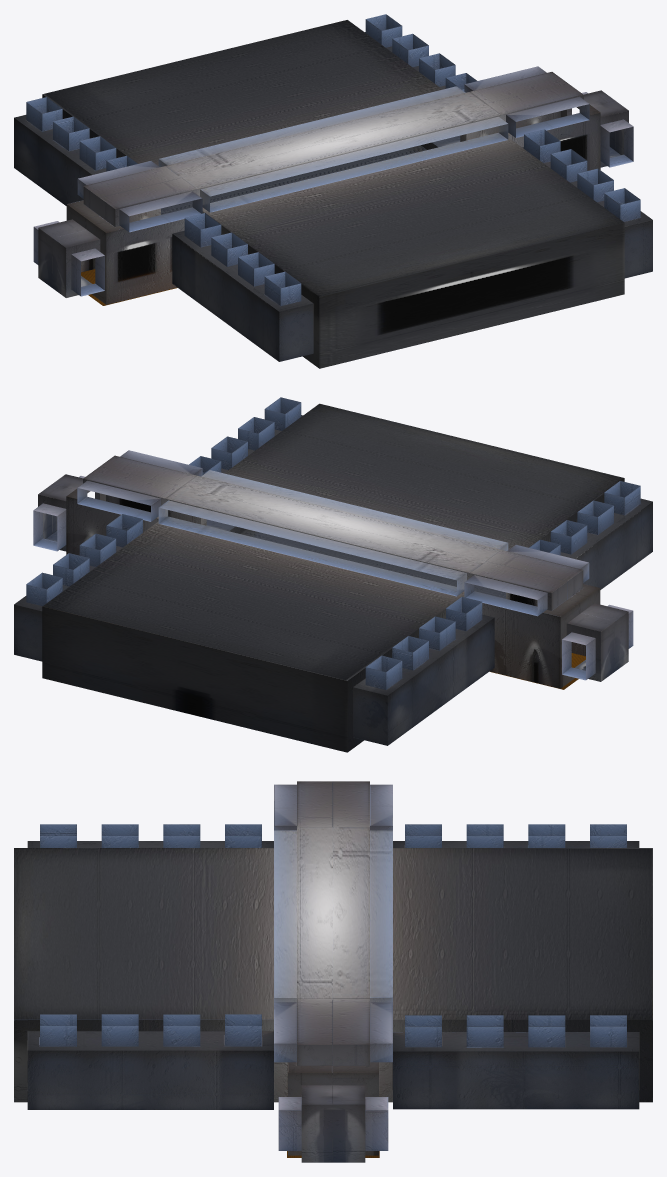
The model's file is main_museum.glb.
3 renders of one model, top to bottom at view 1: azimuth 30°, elevation 25°; view 2: azimuth 150°, elevation 25°; view 3: azimuth 270°, elevation 25°, orthographic. The views are drawn at different scales.
Visible parts, largest first — view 1: hall_low_Cube; view 2: hall_low_Cube; view 3: hall_low_Cube.
Part boxes in pixels (x1=…): hall_low_Cube: x1=14, y1=14, x2=652, y2=368; hall_low_Cube: x1=14, y1=397, x2=652, y2=752; hall_low_Cube: x1=14, y1=781, x2=652, y2=1162.
Size of the model in its own units: 32.84 by 5 by 28.
2 materials, 2 textured.
